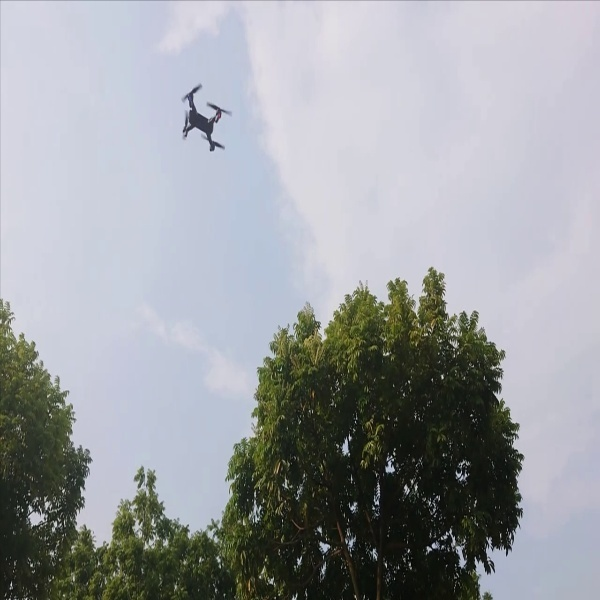drone: (164, 83, 243, 158)
